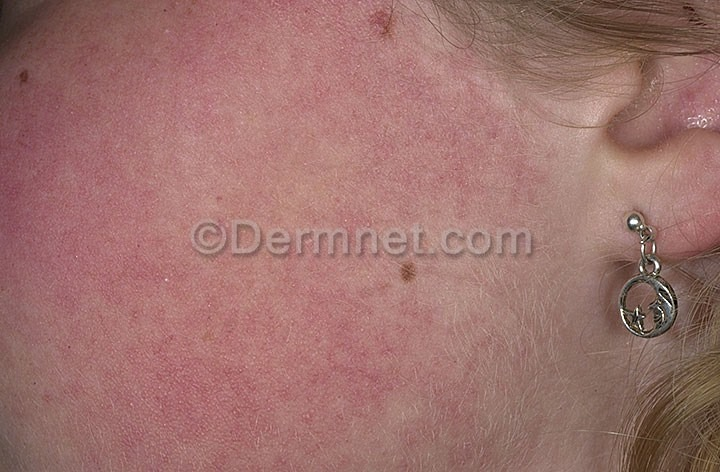Eczema: (6, 12, 580, 472)
